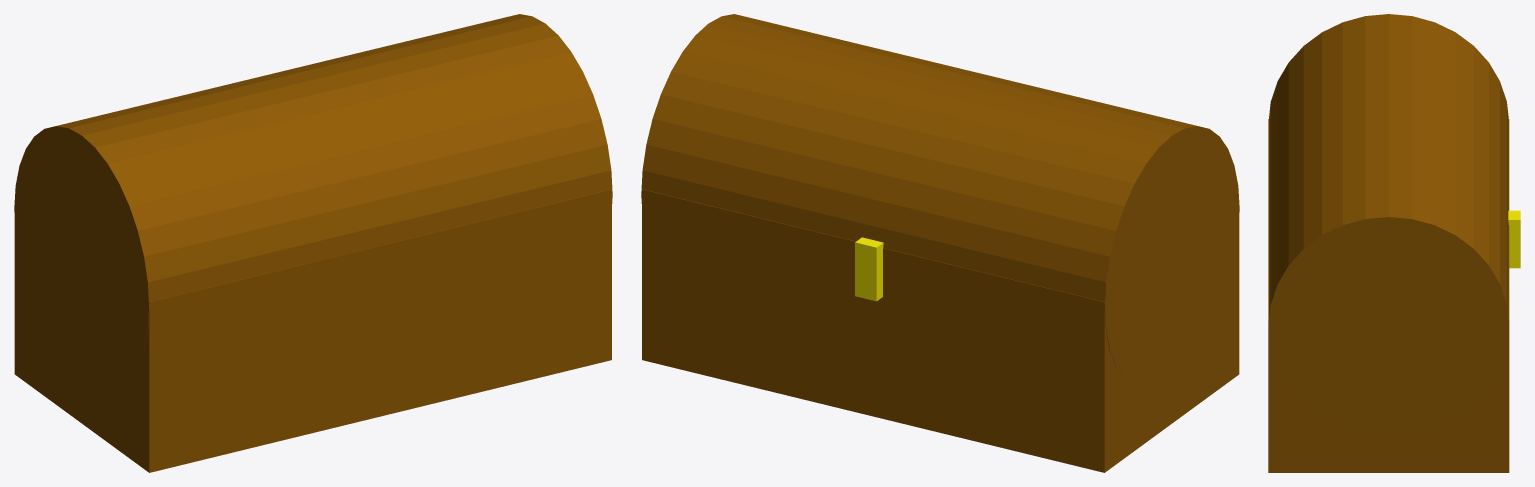
File: Chest2.fbx
The picture shows the model from 3 angles, left to right: view 1: azimuth 30°, elevation 25°; view 2: azimuth 150°, elevation 25°; view 3: azimuth 270°, elevation 25°; orthographic projection. The views are drawn at different scales.
Parts seen in each view (by area): view 1: Cube; view 2: Cube, Cube.001; view 3: Cube, Cube.001.
Part boxes in pixels (bbox=[...]): Cube: bbox=[14, 14, 612, 472]; Cube: bbox=[641, 14, 1239, 472]; Cube.001: bbox=[855, 237, 883, 301]; Cube: bbox=[1268, 14, 1509, 472]; Cube.001: bbox=[1508, 210, 1520, 268].
Bounding box in the file's own units: 398 × 236 × 209.
